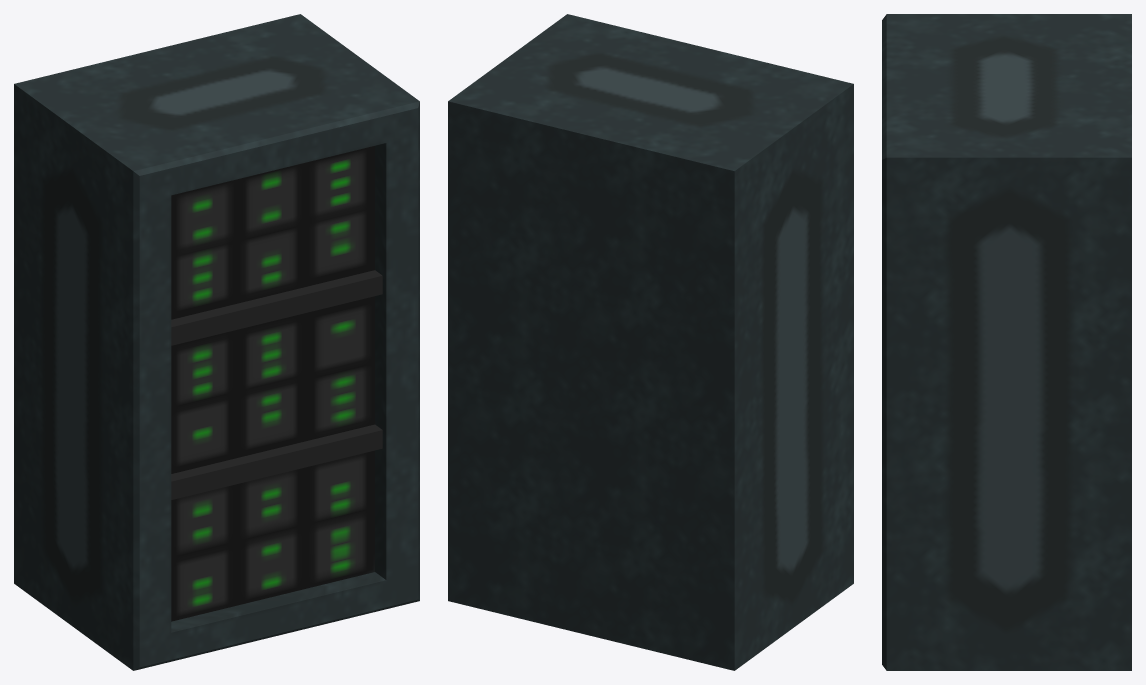
File: SM_BigServerComputer.fbx
3 renders of one model, left to right at view 1: azimuth 30°, elevation 25°; view 2: azimuth 150°, elevation 25°; view 3: azimuth 270°, elevation 25°, orthographic. The views are drawn at different scales.
Parts seen in each view (by area): view 1: SM_BigServerComputer; view 2: SM_BigServerComputer; view 3: SM_BigServerComputer.
Part boxes in pixels (x1=…): SM_BigServerComputer: x1=14, y1=14, x2=419, y2=670; SM_BigServerComputer: x1=448, y1=14, x2=853, y2=670; SM_BigServerComputer: x1=882, y1=14, x2=1131, y2=670.
Size of the model in its own units: 0.3 by 0.5 by 0.2205.
1 material, 1 textured.
